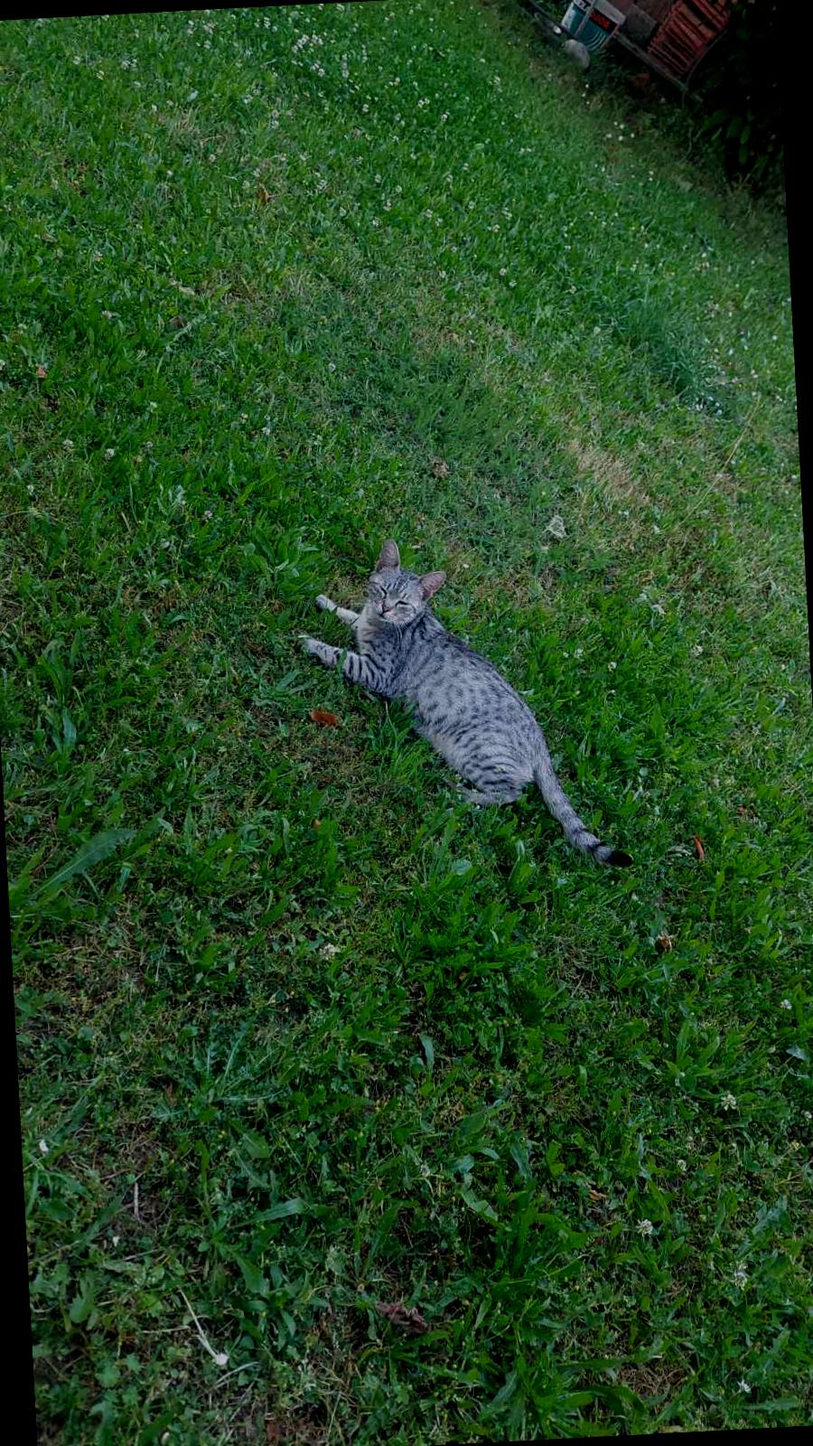macka: (291, 526, 632, 884)
